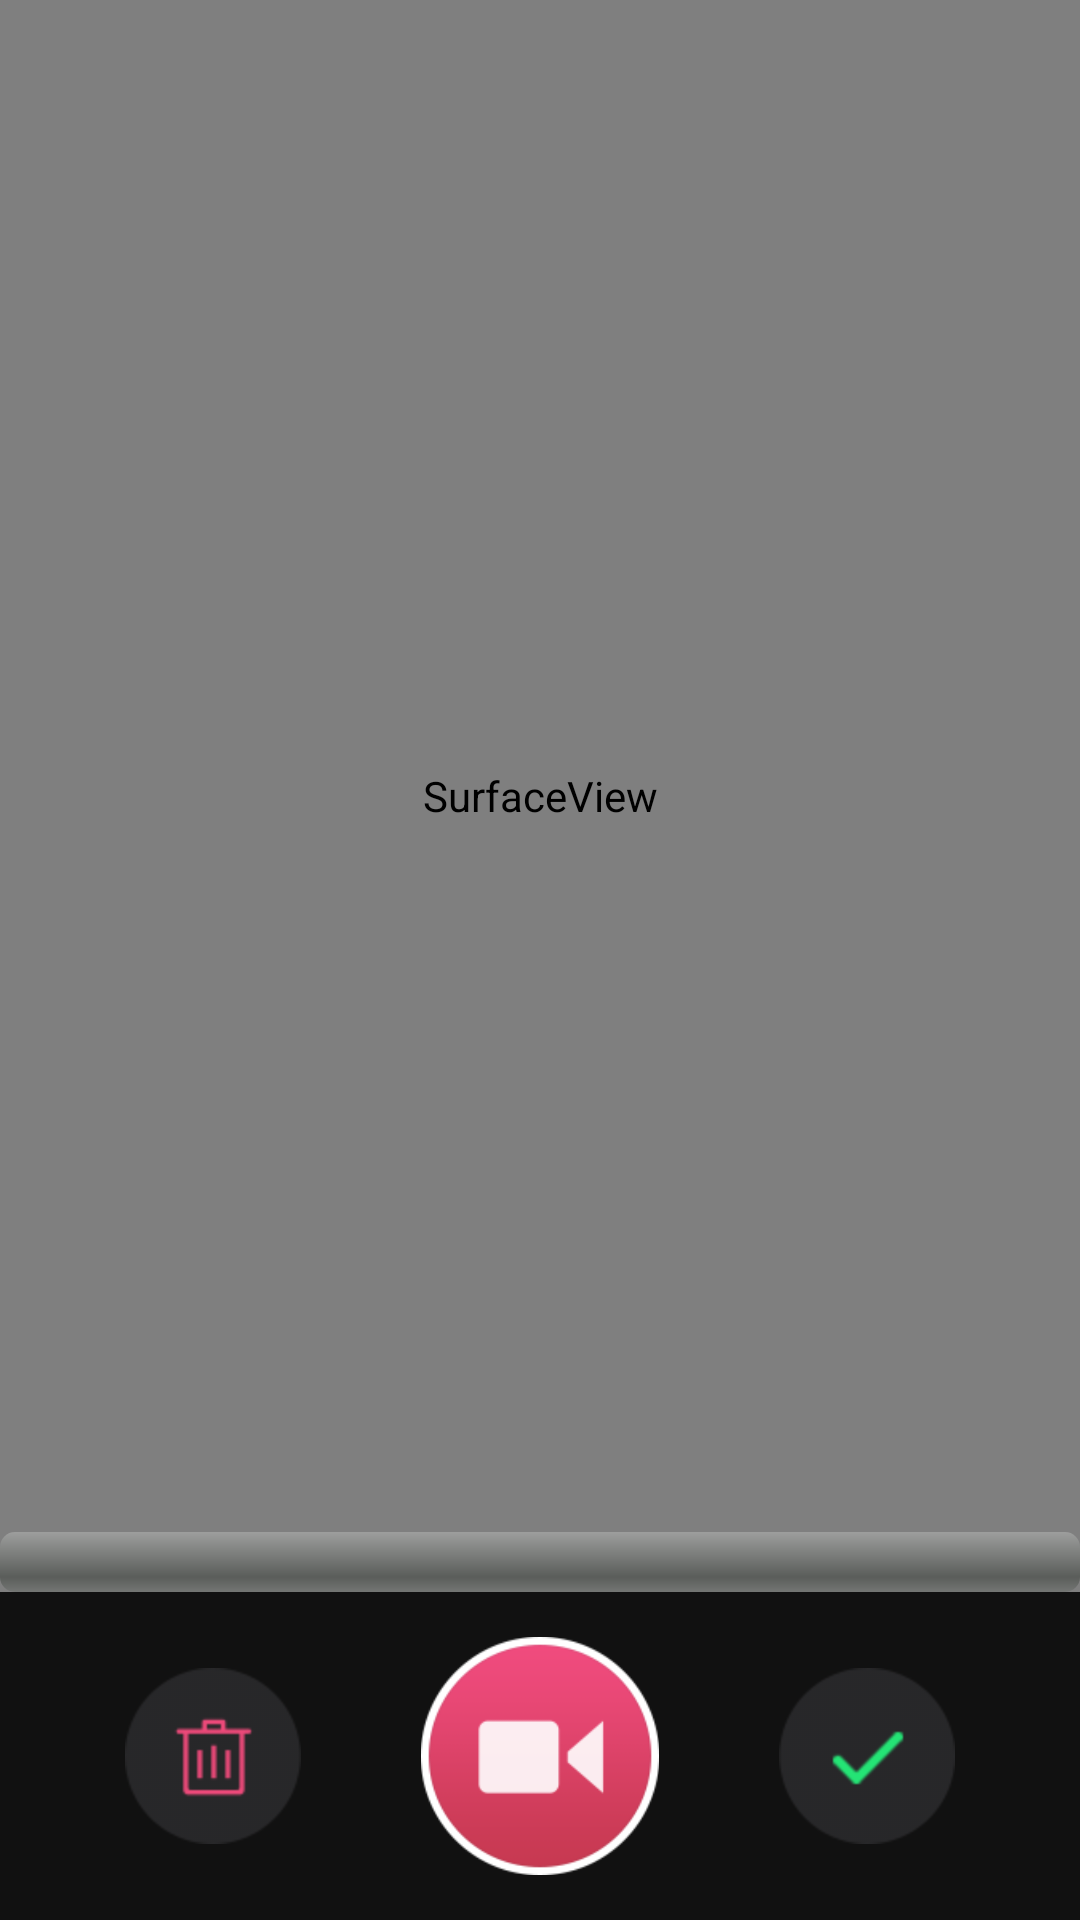

Icons on this 1080px x 1920px Android screen, each with the point to tap as (x,y):
video record cancel: (213,1756)
video record done: (867,1756)
